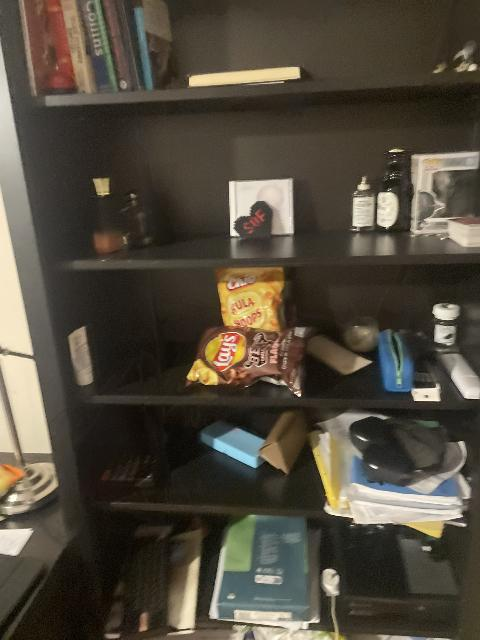Chio Hula Hoops Cheese 70g: (214, 269, 289, 331)
Lays Beef Grilled Ribs 125g: (185, 324, 310, 388)
